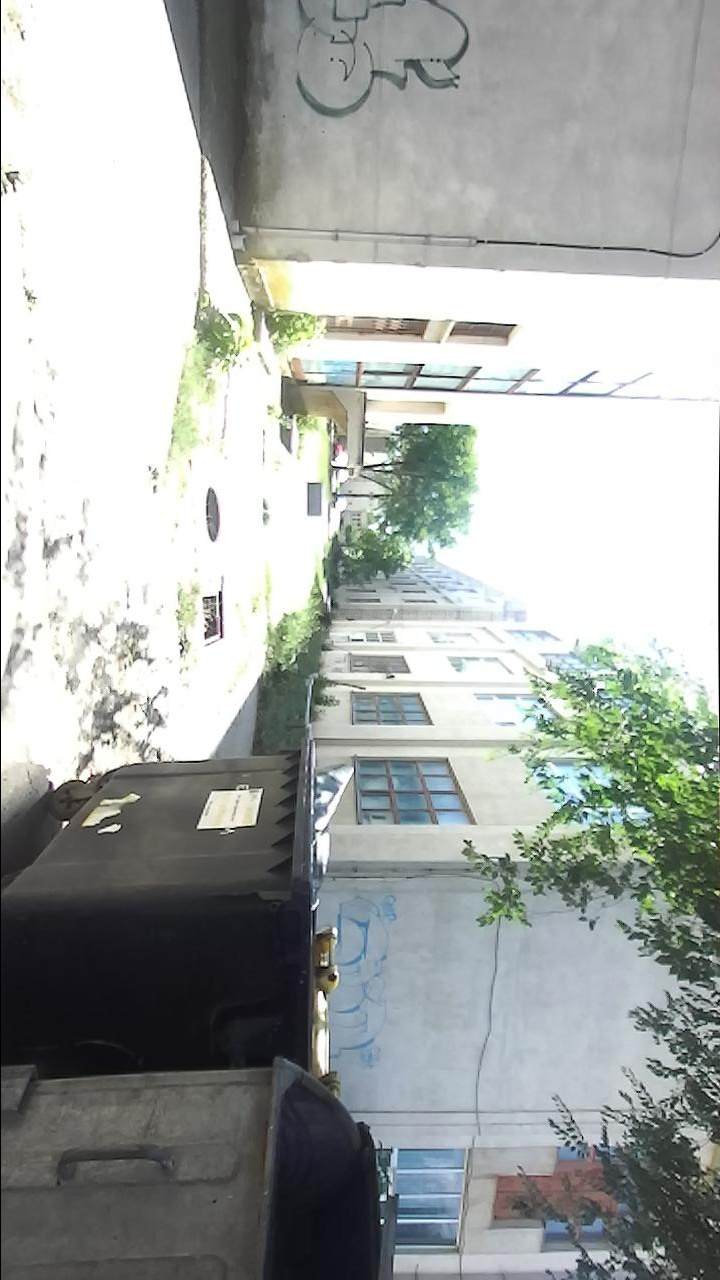drain: (200, 587, 228, 648), (202, 483, 226, 546)
